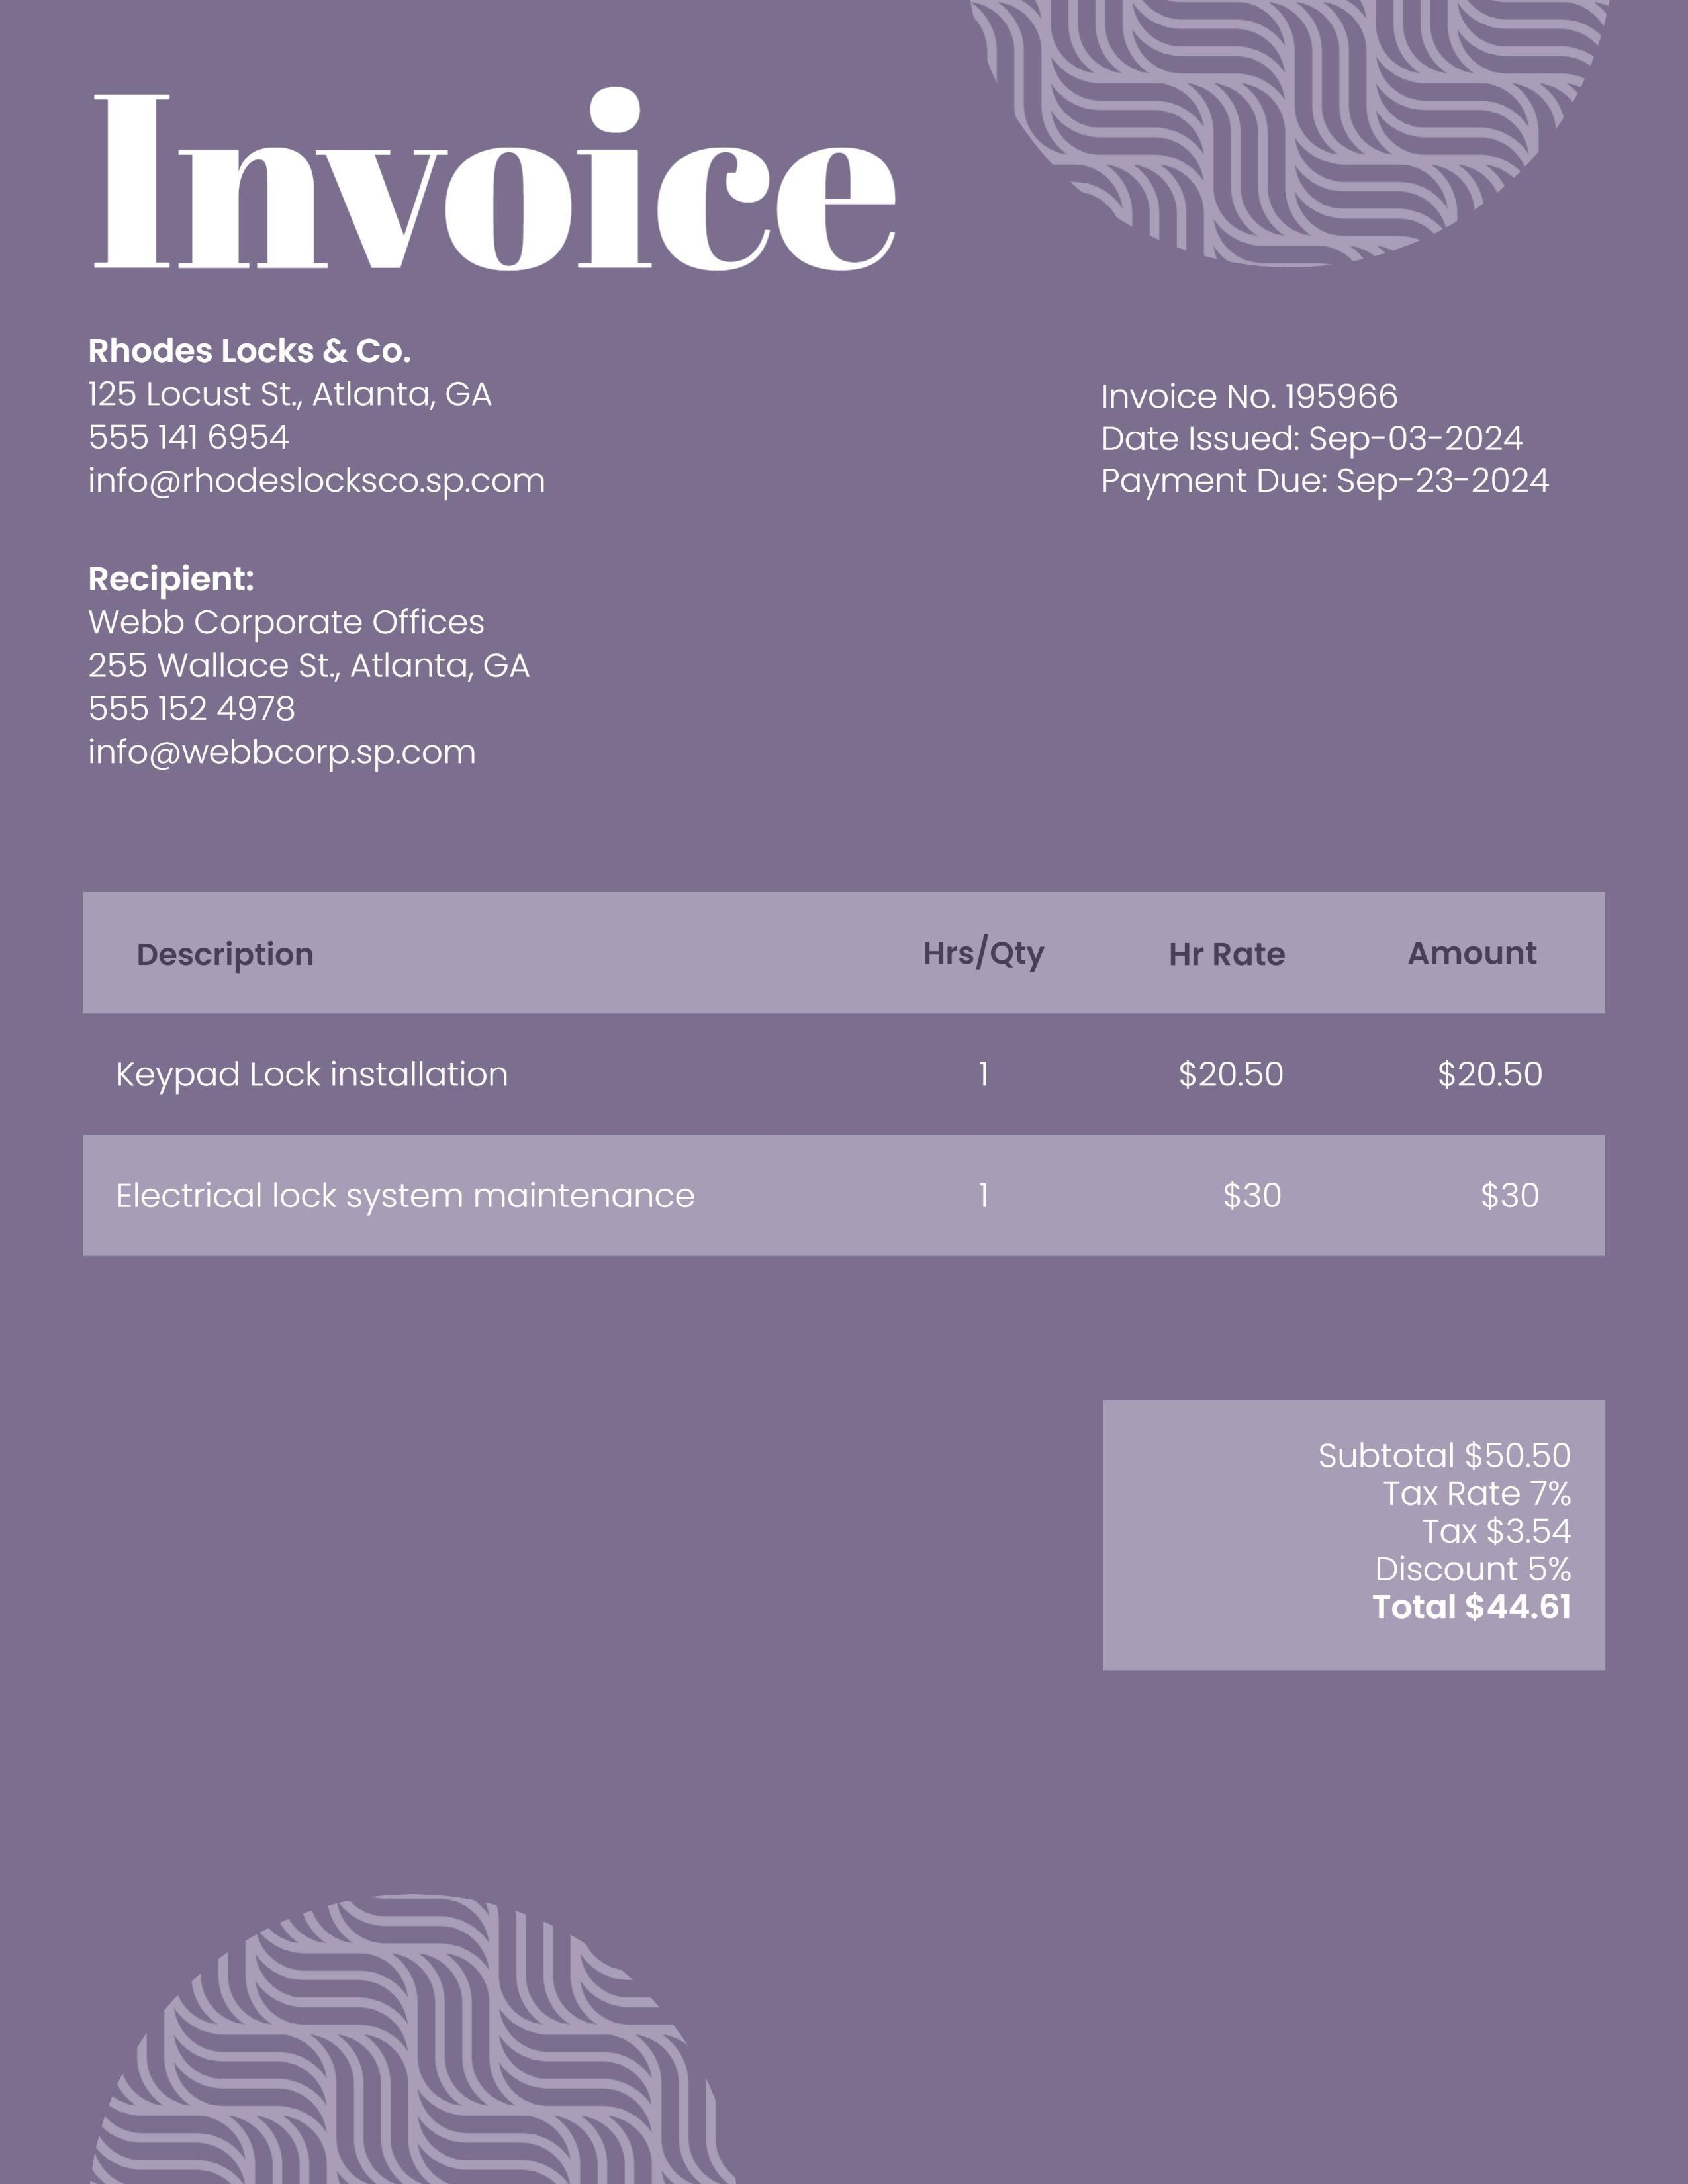ROI: (113, 920, 1578, 1221), (78, 558, 541, 794), (78, 323, 555, 507), (1089, 372, 1562, 512), (1298, 1427, 1587, 1631)
